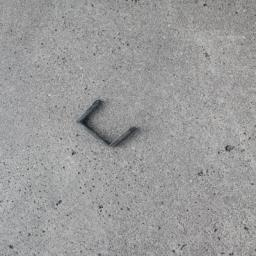FOD: (77, 98, 141, 152)
